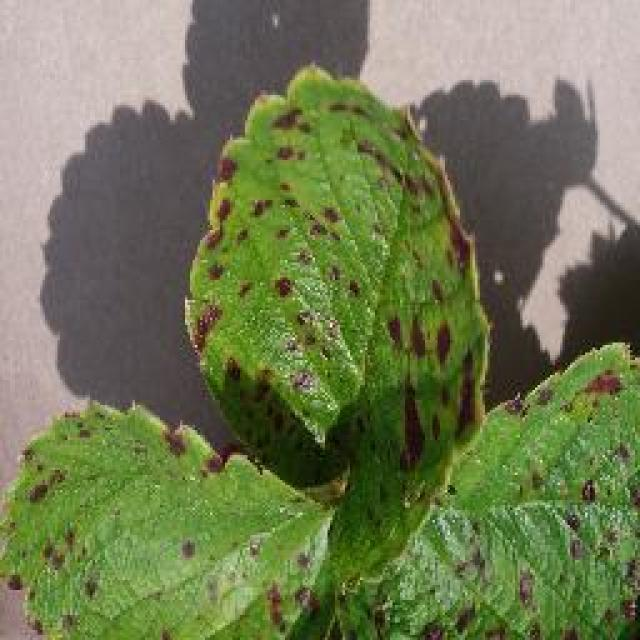Strawberry leaf scorch: (157, 85, 530, 502)
